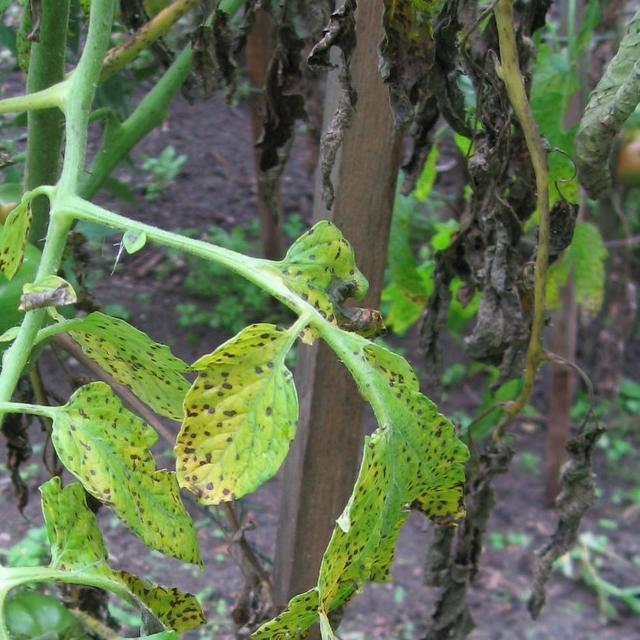Tomato Septoria leaf spot: (250, 294, 506, 640), (34, 374, 208, 587), (170, 314, 323, 508)
